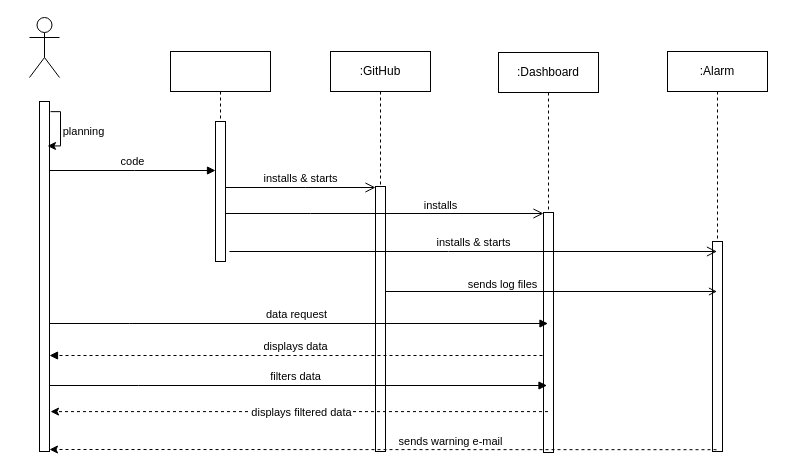
The diagram is 785 pixels wide and 476 high, and some of its shapes have lost their labels. Here are the shapes that lost their labels. From the top down, the centre of each, then its label:
At point (44, 47): "Developer".
At point (220, 156): ":Development Environment".
